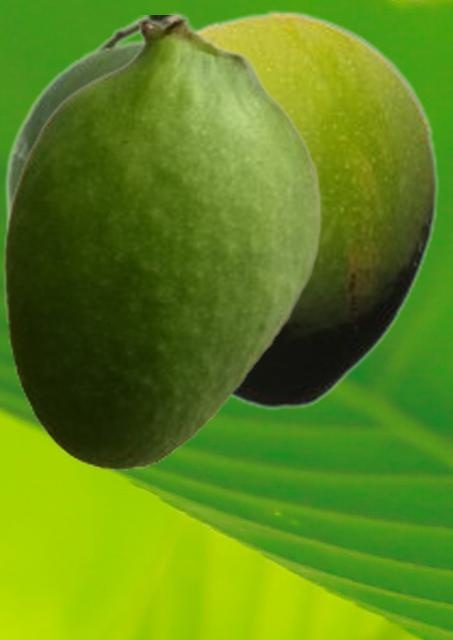green_mango: (2, 11, 321, 469), (195, 10, 439, 410), (2, 15, 163, 239)
